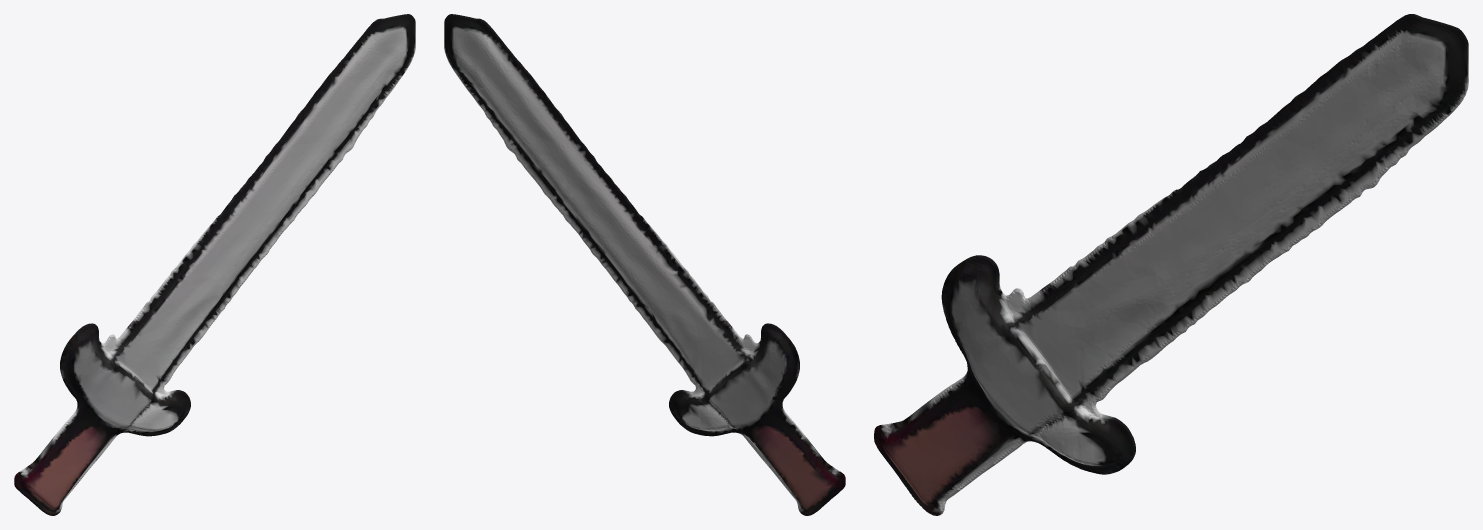
File: sword_2.glb
3 views of the same model, side by side, from view 1: azimuth 30°, elevation 25°; view 2: azimuth 150°, elevation 25°; view 3: azimuth 330°, elevation 25° (orthographic). The views are drawn at different scales.
Parts seen in each view (by area): view 1: geometry_0; view 2: geometry_0; view 3: geometry_0.
Part boxes in pixels (bbox=[...]): geometry_0: bbox=[14, 14, 415, 515]; geometry_0: bbox=[444, 14, 845, 515]; geometry_0: bbox=[874, 14, 1468, 515].
Bounding box in the file's own units: 0.9375 × 0.9319 × 0.041.
